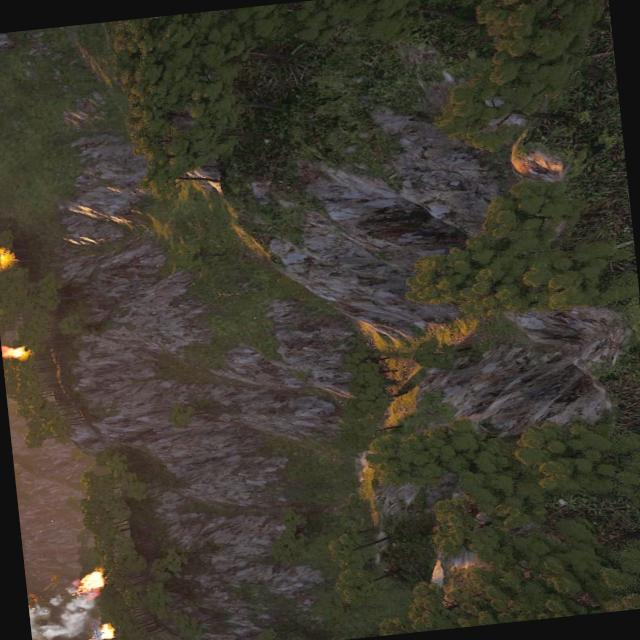fire: (78, 568, 106, 592), (1, 342, 26, 360), (98, 621, 115, 638), (0, 243, 8, 267)
smoke: (27, 586, 97, 640)
